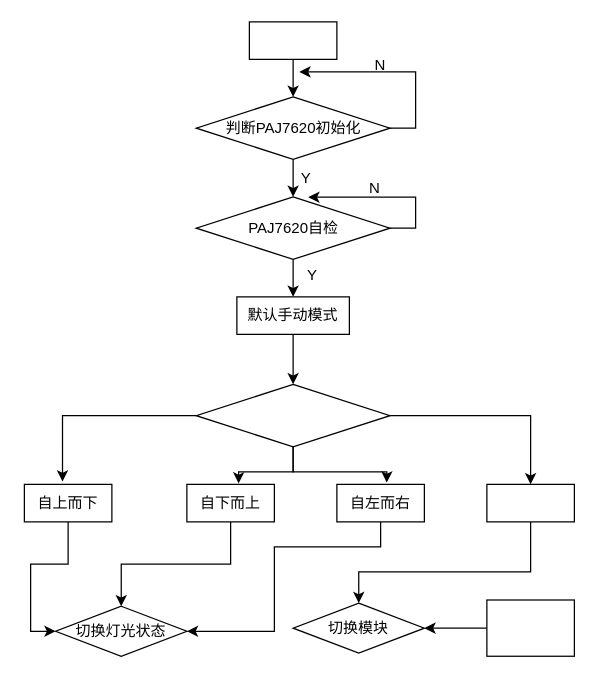
Image size: 596x679. Some labels were removed from this diagram. The centre of each missing label's shape, as x and y in pixels:
"上电" belongs at (x=292, y=40).
"切换模式" belongs at (x=530, y=502).
"蓝牙任务通信" belongs at (x=530, y=627).
"读取手势状态" belongs at (x=292, y=415).
